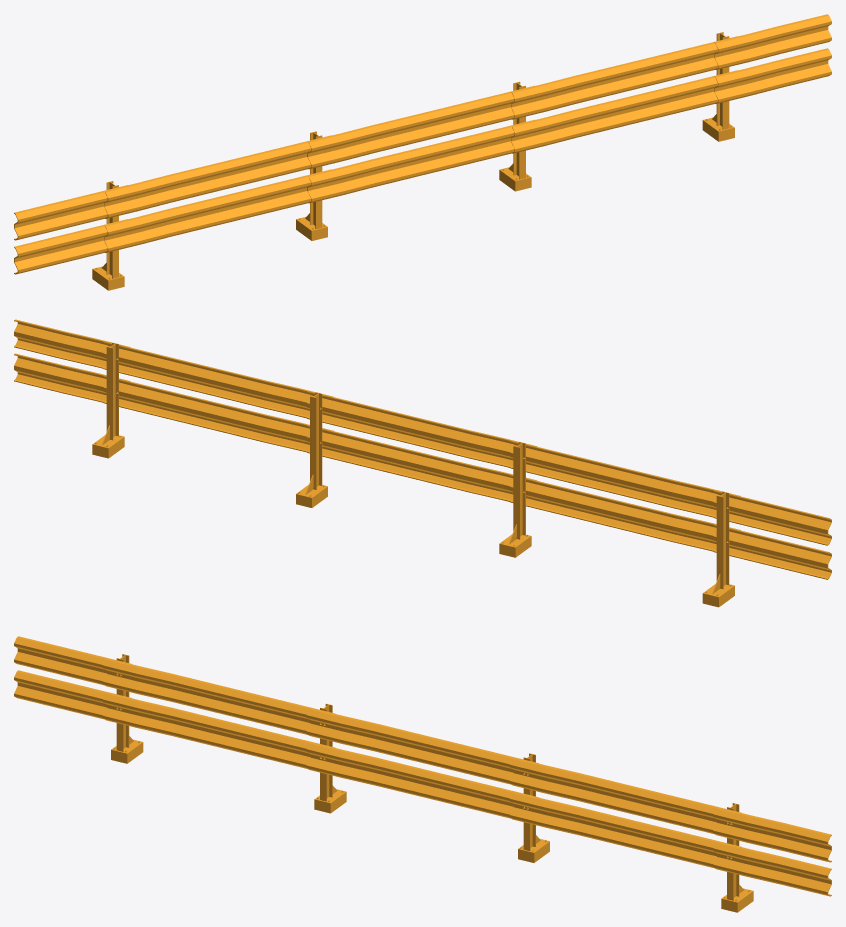
Rendered from SM_Fence_Road_WBeam_Double_Metal_10m.fbx.
The picture shows the model from 3 angles, top to bottom: view 1: azimuth 30°, elevation 25°; view 2: azimuth 150°, elevation 25°; view 3: azimuth 330°, elevation 25°; orthographic projection.
Visible parts, largest first — view 1: SM_Fence_Road_WBeam_Double_Metal_10m; view 2: SM_Fence_Road_WBeam_Double_Metal_10m; view 3: SM_Fence_Road_WBeam_Double_Metal_10m.
Part boxes in pixels (left/top/right/bottom): SM_Fence_Road_WBeam_Double_Metal_10m: left=14, top=14, right=831, bottom=290; SM_Fence_Road_WBeam_Double_Metal_10m: left=14, top=319, right=831, bottom=607; SM_Fence_Road_WBeam_Double_Metal_10m: left=14, top=636, right=831, bottom=912.
Size of the model in its own units: 10 by 1.2 by 0.424.
